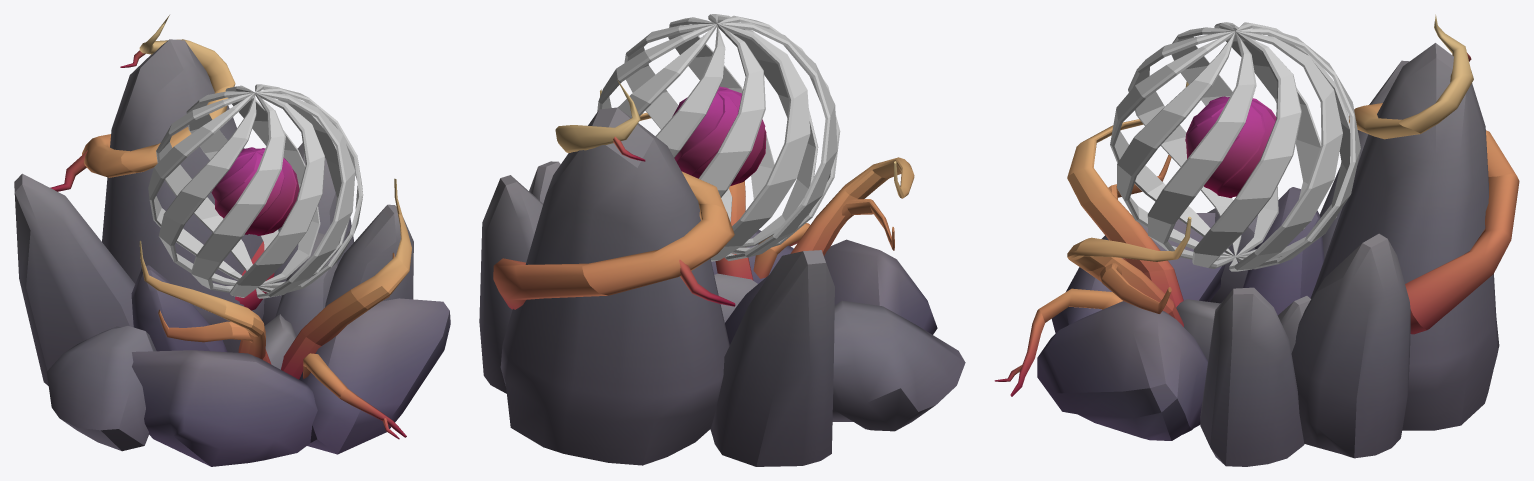
File: Soul_Sphere_Fractured.fbx
3 views of the same model, side by side, from view 1: azimuth 30°, elevation 25°; view 2: azimuth 150°, elevation 25°; view 3: azimuth 270°, elevation 25° (orthographic). The views are drawn at different scales.
Parts seen in each view (by area): view 1: Soul_Sphere_001, Soul_Sphere_Rock_003, Soul_Sphere_Rock_009, Soul_Sphere_Rock_008, Soul_Sphere_Rock_001, Soul_Sphere_Rock_004, Soul_Sphere_Rock_002, Soul_Sphere_Rock_005, Soul_Sphere_002, Soul_Sphere_Root_010, Soul_Sphere_Root_006, Soul_Sphere_Rock_007 (+12 smaller); view 2: Soul_Sphere_Rock_009, Soul_Sphere_001, Soul_Sphere_Rock_008, Soul_Sphere_Rock_004, Soul_Sphere_Rock_010, Soul_Sphere_Root_014, Soul_Sphere_Rock_003, Soul_Sphere_002, Soul_Sphere_Root_013, Soul_Sphere_Root_016, Soul_Sphere_Root_009, Soul_Sphere_Root_010 (+7 smaller); view 3: Soul_Sphere_001, Soul_Sphere_Rock_009, Soul_Sphere_Rock_010, Soul_Sphere_Rock_001, Soul_Sphere_Rock_002, Soul_Sphere_Root_013, Soul_Sphere_002, Soul_Sphere_Rock_005, Soul_Sphere_Rock_003, Soul_Sphere_Root_009, Soul_Sphere_Root_016, Soul_Sphere_Root_006 (+12 smaller).
Boxes of the visible parts, x1,y1,x2,y2 form: Soul_Sphere_001: (148, 84, 363, 298); Soul_Sphere_Rock_003: (132, 350, 317, 466); Soul_Sphere_Rock_009: (102, 39, 264, 352); Soul_Sphere_Rock_008: (14, 173, 135, 385); Soul_Sphere_Rock_001: (299, 298, 450, 454); Soul_Sphere_Rock_004: (46, 326, 156, 451); Soul_Sphere_Rock_002: (325, 204, 413, 307); Soul_Sphere_Rock_005: (131, 265, 227, 352); Soul_Sphere_002: (211, 147, 299, 235); Soul_Sphere_Root_010: (139, 240, 263, 336); Soul_Sphere_Root_006: (351, 178, 411, 309); Soul_Sphere_Rock_007: (275, 232, 337, 335); Soul_Sphere_Rock_009: (500, 107, 729, 465); Soul_Sphere_001: (597, 14, 840, 261); Soul_Sphere_Rock_008: (710, 250, 834, 466); Soul_Sphere_Rock_004: (832, 300, 965, 431); Soul_Sphere_Rock_010: (479, 175, 543, 393); Soul_Sphere_Root_014: (582, 203, 735, 306); Soul_Sphere_Rock_003: (824, 239, 937, 334); Soul_Sphere_002: (672, 86, 766, 185); Soul_Sphere_Root_013: (493, 258, 607, 309); Soul_Sphere_Root_016: (555, 79, 645, 161); Soul_Sphere_Root_009: (790, 186, 863, 255); Soul_Sphere_Root_010: (844, 157, 914, 198); Soul_Sphere_001: (1110, 22, 1360, 271); Soul_Sphere_Rock_009: (1310, 43, 1499, 430); Soul_Sphere_Rock_010: (1291, 233, 1410, 458); Soul_Sphere_Rock_001: (1037, 301, 1207, 440); Soul_Sphere_Rock_002: (1200, 287, 1304, 466); Soul_Sphere_Root_013: (1405, 174, 1519, 329); Soul_Sphere_002: (1185, 96, 1276, 197); Soul_Sphere_Rock_005: (1243, 187, 1324, 315); Soul_Sphere_Rock_003: (1052, 213, 1225, 333); Soul_Sphere_Root_009: (1081, 195, 1173, 272); Soul_Sphere_Root_016: (1399, 14, 1473, 133); Soul_Sphere_Root_006: (1067, 216, 1191, 270).
Bounding box in the file's own units: 9.58 × 8.11 × 10.5.
